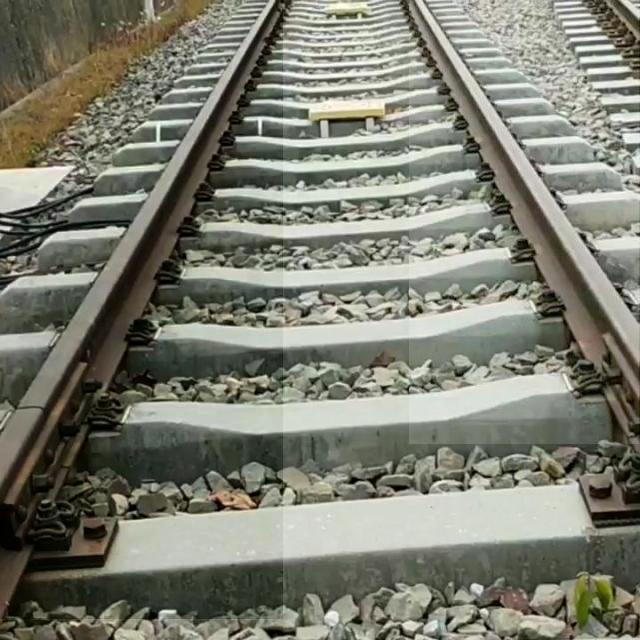rail: (2, 1, 284, 620), (411, 1, 640, 445)
